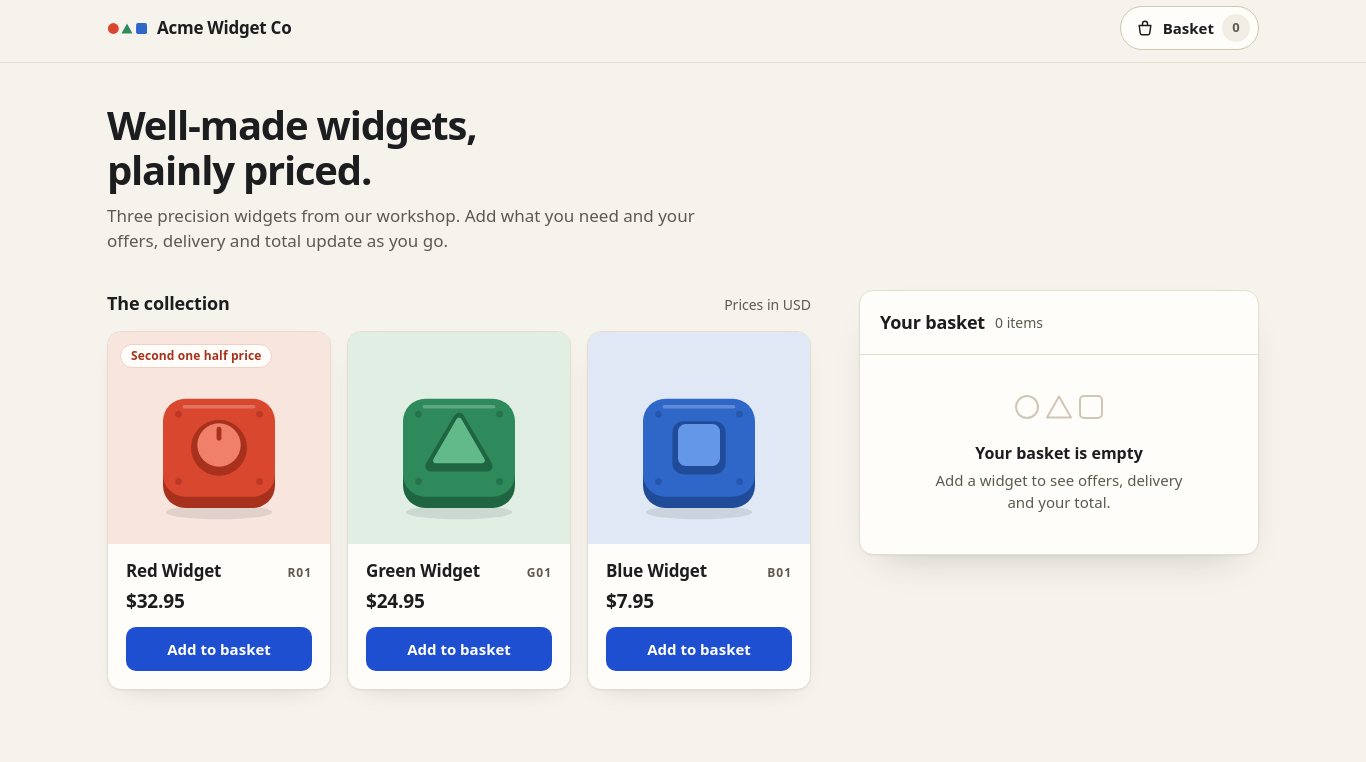
Test case: Acme Widget Co storefront › cancels superseded quote requests and ignores their late responses
Later steps or results of the test are not shown.
Click the button with aria-label "Add to basket: Red Widget". click: (219, 649)
box: top-left (126, 627), bottom-right (312, 671)
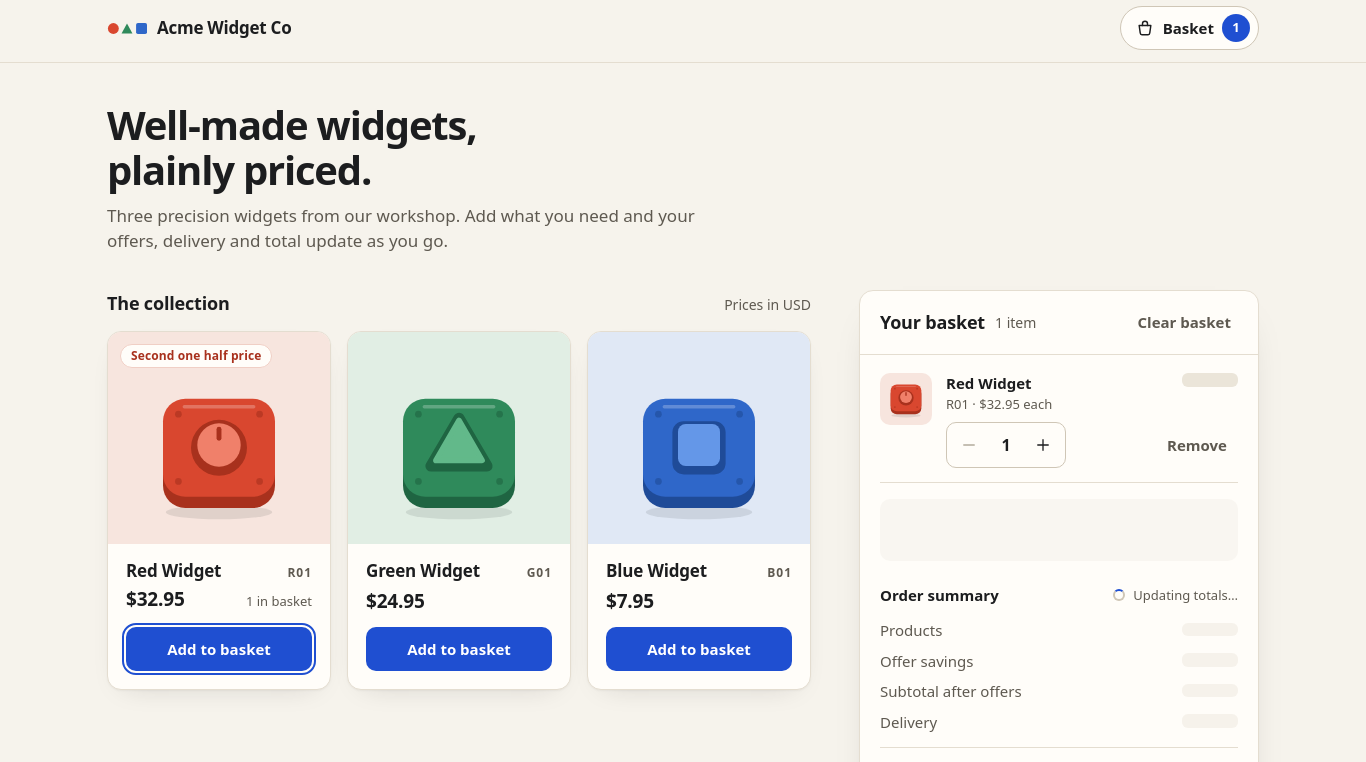
Click the button with aria-label "Add to basket: Red Widget". click: (219, 649)
box: top-left (126, 627), bottom-right (312, 671)
(page scrolled)
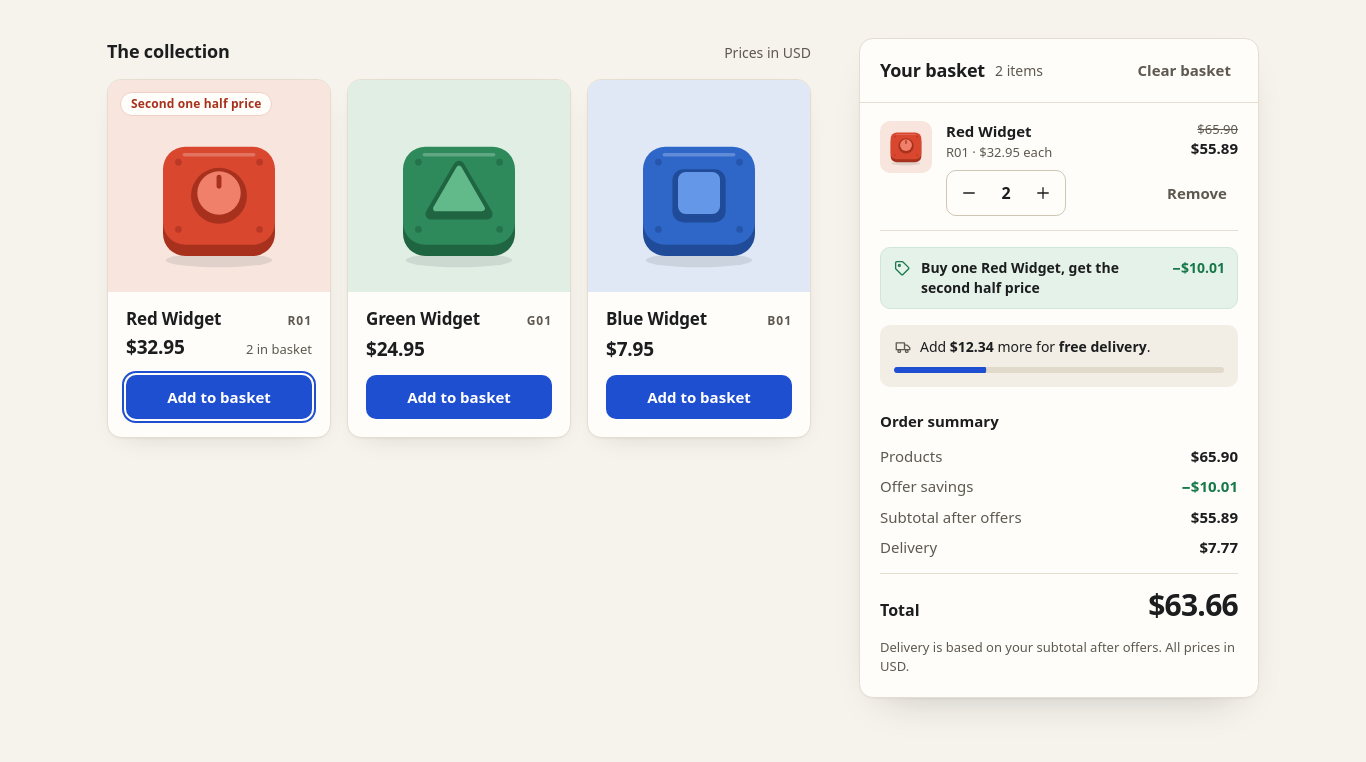
Now the element "Order summary" has attribute aria-busy="false", box top-left (880, 407), bottom-right (1238, 677)
